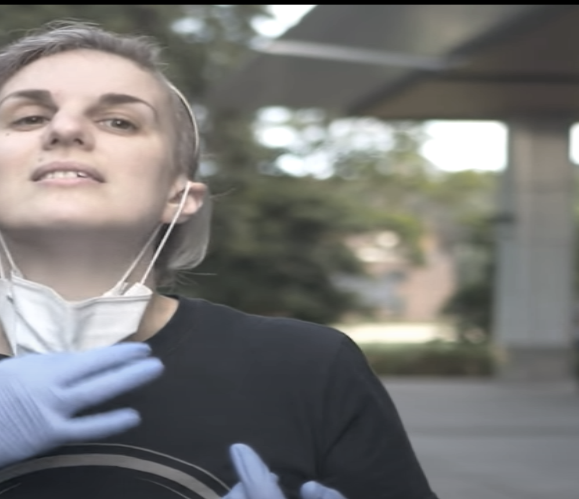mask_weared_incorrect: (1, 19, 205, 348)
